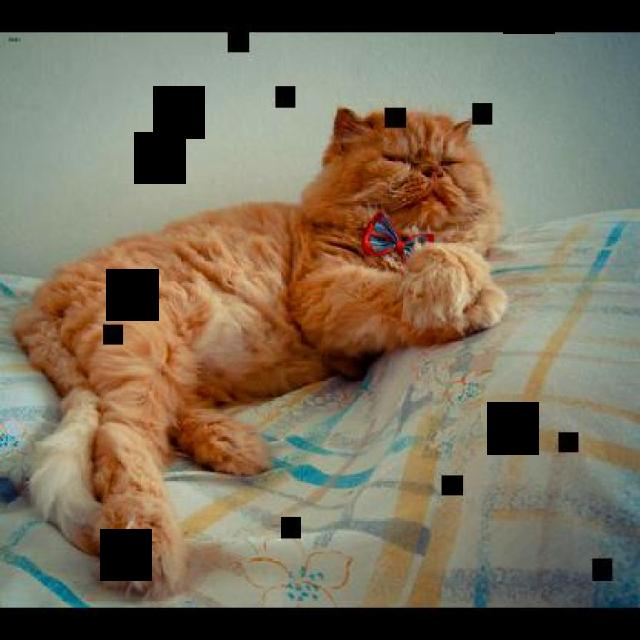unauthorized: (11, 105, 509, 600)
